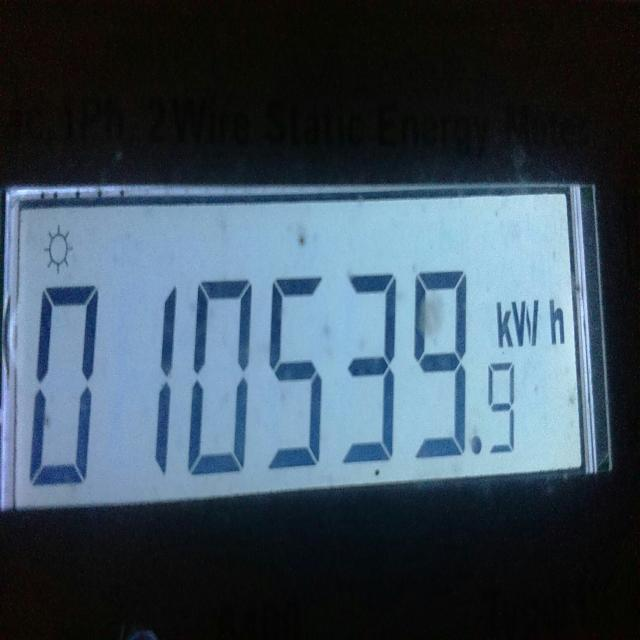.: (471, 434, 482, 456)
0: (27, 285, 94, 487), (188, 282, 250, 473)
1: (155, 284, 175, 472)
3: (350, 275, 394, 463)
5: (270, 276, 321, 465)
9: (414, 272, 467, 457), (488, 363, 514, 452)
